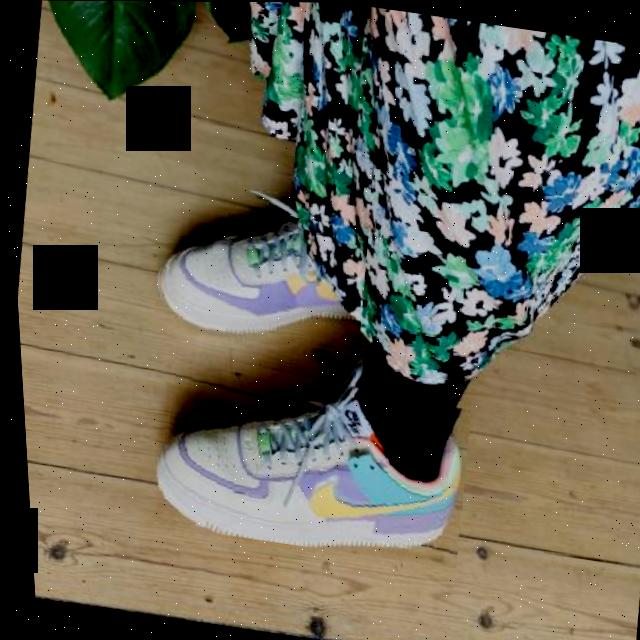shoe: (140, 348, 476, 569), (143, 198, 372, 357)
